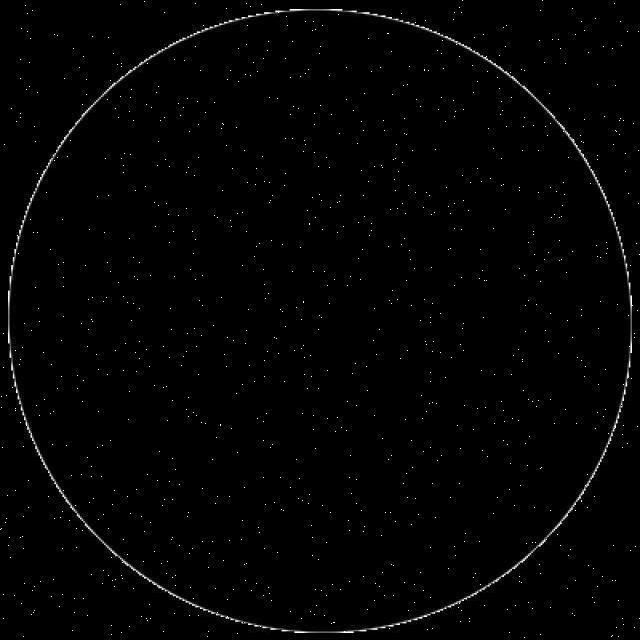Circle: (2, 9, 638, 636)
